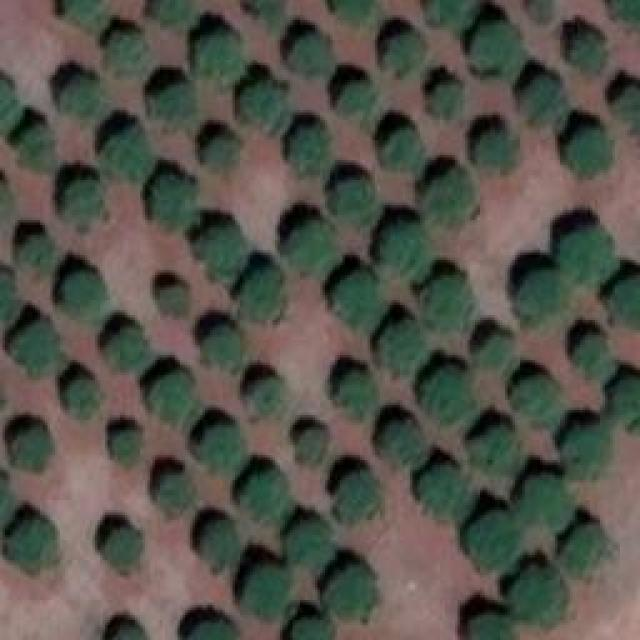Tree: (187, 25, 245, 85), (417, 363, 475, 423), (320, 567, 375, 625), (510, 367, 565, 425), (558, 525, 611, 585), (557, 420, 615, 473), (515, 475, 570, 530), (415, 465, 468, 520), (420, 270, 475, 323), (468, 20, 523, 73), (468, 512, 518, 570), (142, 368, 200, 418), (237, 265, 285, 325), (5, 518, 58, 571), (10, 320, 63, 373), (290, 223, 343, 276), (553, 223, 606, 276), (55, 270, 113, 318), (100, 128, 150, 183), (560, 123, 610, 178), (380, 218, 425, 278), (513, 568, 563, 621), (8, 233, 61, 283), (373, 415, 426, 465), (473, 420, 523, 473), (200, 323, 248, 378), (427, 168, 475, 223), (63, 175, 108, 233), (247, 563, 295, 613), (197, 423, 245, 473), (290, 120, 333, 175), (477, 125, 525, 173), (150, 175, 193, 228), (333, 268, 378, 318), (380, 315, 425, 365), (150, 473, 198, 518), (243, 472, 288, 520), (333, 475, 378, 523), (238, 80, 283, 128), (520, 75, 565, 123), (518, 265, 561, 315), (98, 328, 151, 368), (288, 517, 331, 565), (198, 225, 241, 273), (105, 27, 148, 75), (470, 328, 515, 373), (148, 78, 188, 128), (285, 33, 330, 76), (58, 70, 101, 115), (380, 128, 423, 173), (570, 30, 615, 73), (605, 270, 640, 325), (377, 33, 425, 73), (340, 373, 383, 416), (20, 125, 58, 173), (197, 520, 235, 568), (573, 325, 613, 370), (247, 375, 285, 418), (457, 612, 515, 640), (325, 0, 383, 28), (15, 425, 50, 470), (612, 370, 640, 425), (197, 133, 235, 173), (430, 80, 465, 123), (108, 528, 143, 568), (60, 0, 110, 28), (422, 0, 485, 22), (295, 427, 328, 465), (63, 378, 98, 413), (155, 283, 190, 318), (335, 80, 370, 115), (338, 178, 373, 211), (183, 622, 246, 640), (0, 273, 20, 328), (150, 0, 193, 25), (612, 87, 640, 125), (282, 617, 327, 640), (108, 430, 138, 460), (243, 0, 283, 20), (0, 77, 15, 125), (105, 625, 148, 640)
